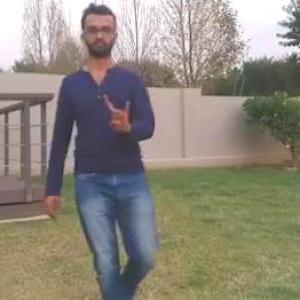takeoff-hand: (103, 87, 135, 135)
